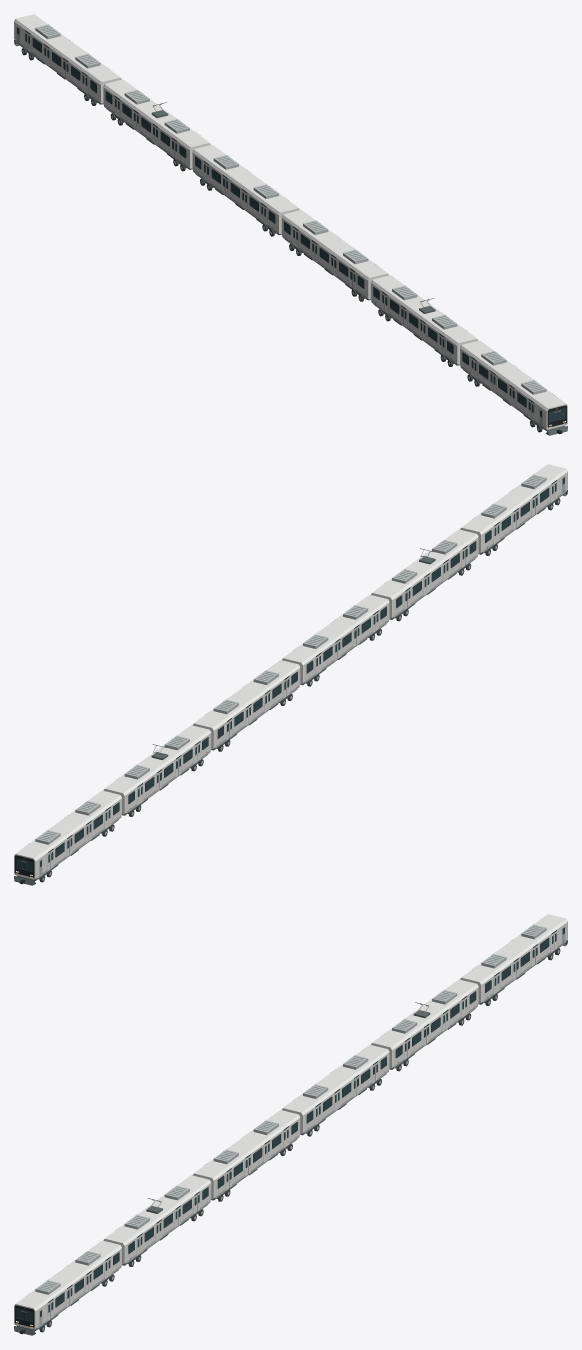
3 views of the same model, one above another, from view 1: azimuth 30°, elevation 25°; view 2: azimuth 150°, elevation 25°; view 3: azimuth 330°, elevation 25° (orthographic).
Parts seen in each view (by area): view 1: Car_01, Car_06, Car_02, Car_05, Car_03, Car_04; view 2: Car_06, Car_01, Car_05, Car_02, Car_03, Car_04; view 3: Car_01, Car_06, Car_02, Car_05, Car_03, Car_04.
Boxes of the visible parts, x1,y1,x2,y2 form: Car_01: [460, 340, 567, 435]; Car_06: [14, 14, 121, 105]; Car_02: [370, 275, 478, 366]; Car_05: [103, 79, 210, 171]; Car_03: [281, 210, 389, 301]; Car_04: [192, 145, 299, 236]; Car_06: [14, 790, 121, 885]; Car_01: [460, 464, 567, 555]; Car_05: [103, 725, 211, 816]; Car_02: [371, 529, 478, 621]; Car_03: [282, 595, 389, 686]; Car_04: [192, 660, 300, 751]; Car_01: [14, 1240, 121, 1335]; Car_06: [460, 914, 567, 1005]; Car_02: [103, 1175, 211, 1266]; Car_05: [371, 979, 478, 1071]; Car_03: [192, 1110, 300, 1201]; Car_04: [282, 1045, 389, 1136].
Bounding box in the file's own units: 3.09 × 5.27 × 124.
